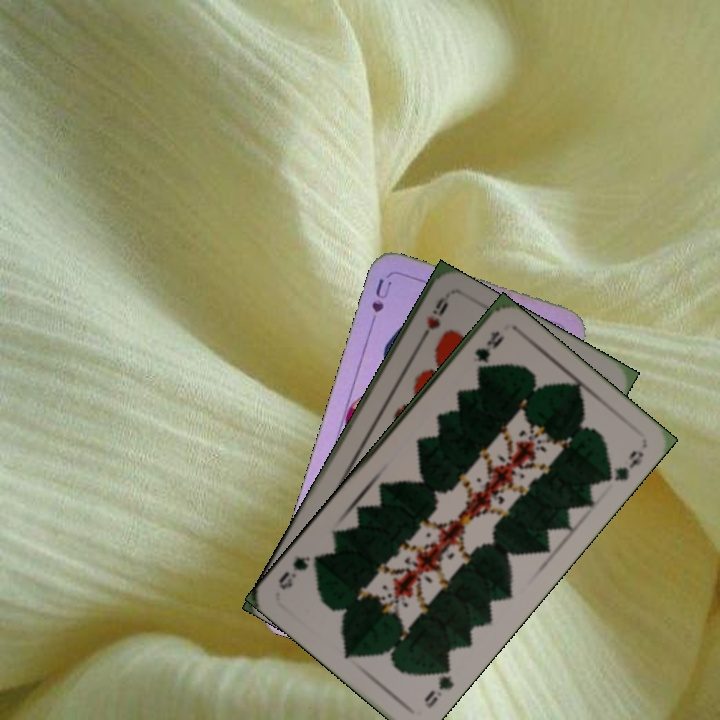G9: (420, 659, 457, 711), (470, 326, 507, 365)
H9: (415, 292, 451, 347)
SU: (365, 274, 394, 332)
